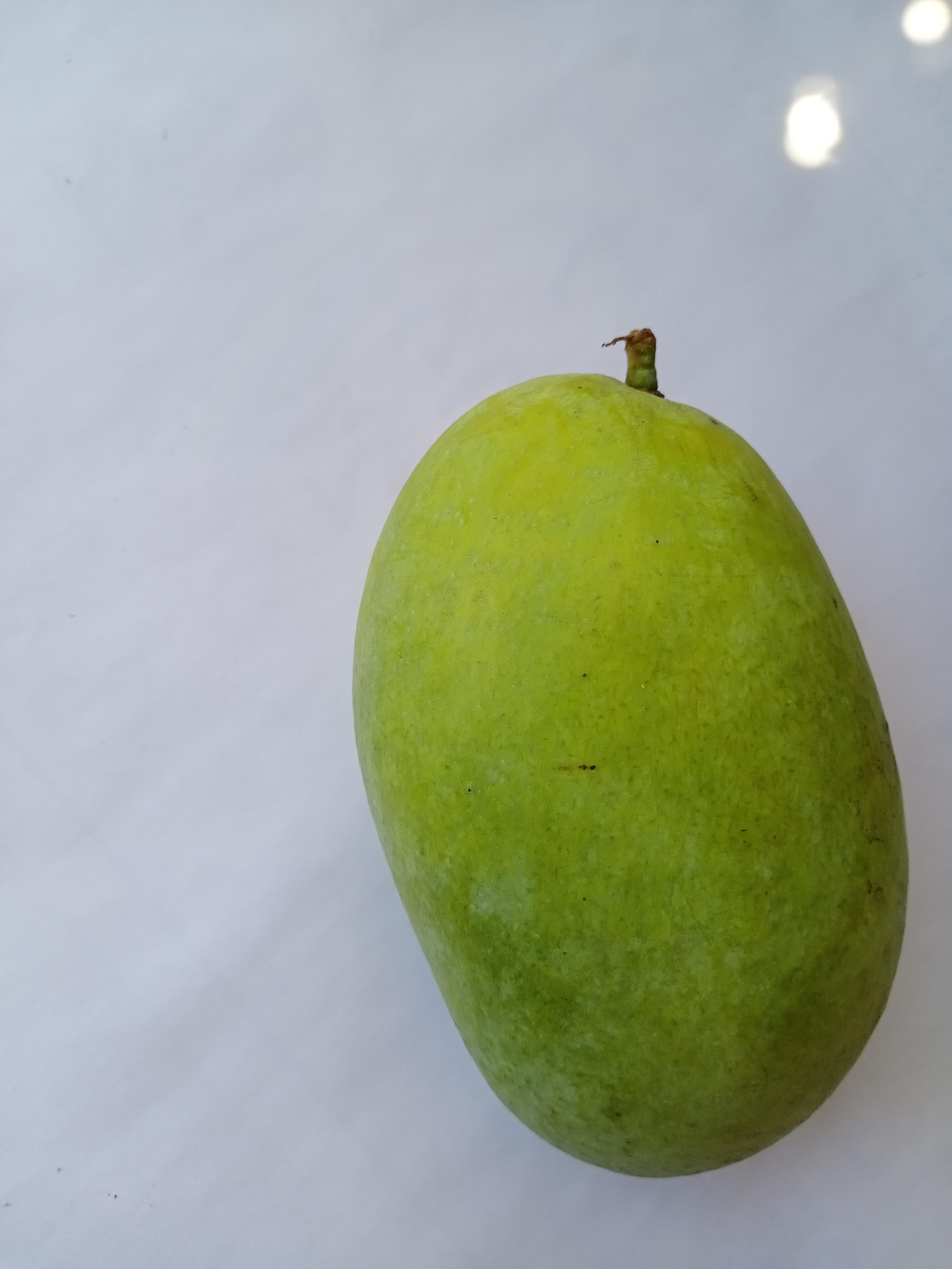Mango Unripe: (298, 270, 952, 1222)
